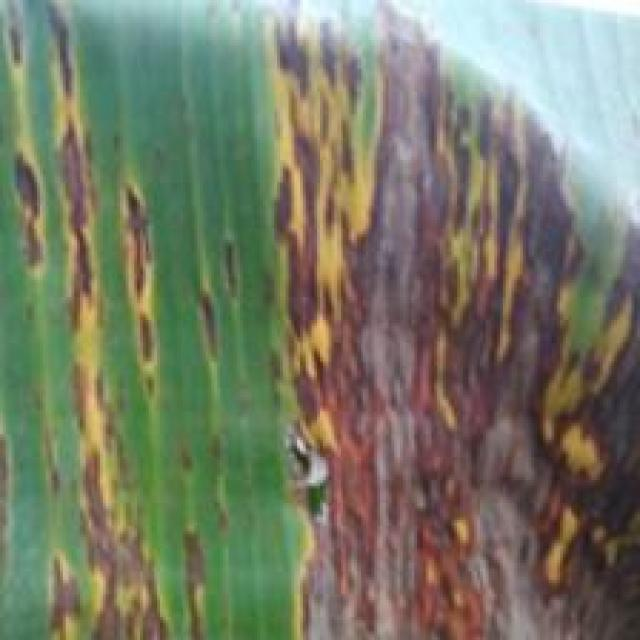Early_leaf_spot: (228, 0, 640, 640), (39, 0, 189, 640), (177, 237, 243, 640), (0, 0, 53, 287)
